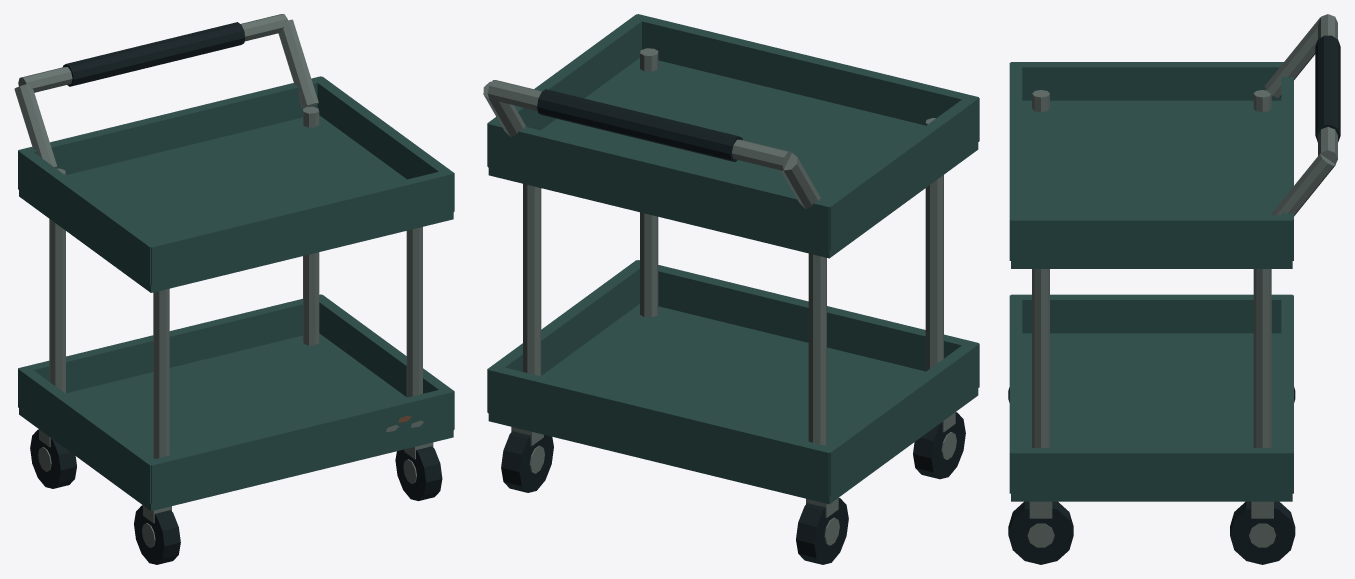
The model's file is maintenance-trolley.glb.
The picture shows the model from 3 angles, left to right: view 1: azimuth 30°, elevation 25°; view 2: azimuth 150°, elevation 25°; view 3: azimuth 270°, elevation 25°; orthographic projection. The views are drawn at different scales.
Parts seen in each view (by area): view 1: maintenance-trolley; view 2: maintenance-trolley; view 3: maintenance-trolley.
Part boxes in pixels (<box>): maintenance-trolley: <box>14,14,454,564</box>; maintenance-trolley: <box>483,14,979,564</box>; maintenance-trolley: <box>1008,14,1340,564</box>.
Size of the model in its own units: 0.745 by 0.9038 by 0.66.
